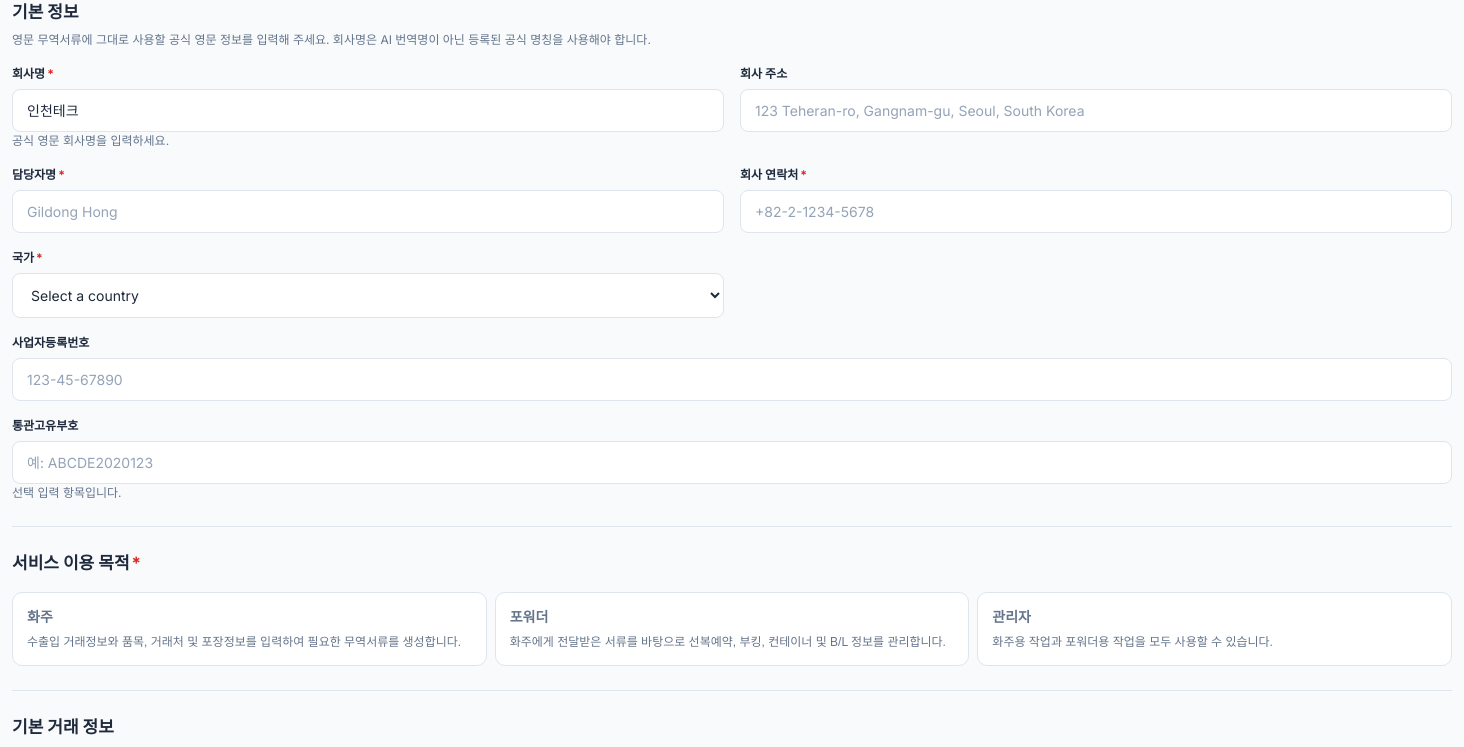
Test: ProfileForm 서비스 이용 목적 선택 › 온보딩에서는 담당자명, 회사 연락처, 국가가 없으면 저장하지 않는다
The image size is (1464, 747).
Click the radio button labelled "화주 수출입 거래정보와 품목, 거래처 및 포장정보를 입력하여 필요한 무역서류를 생성합니다.": [244, 642] box 12,592 -> 487,666
(page scrolled)
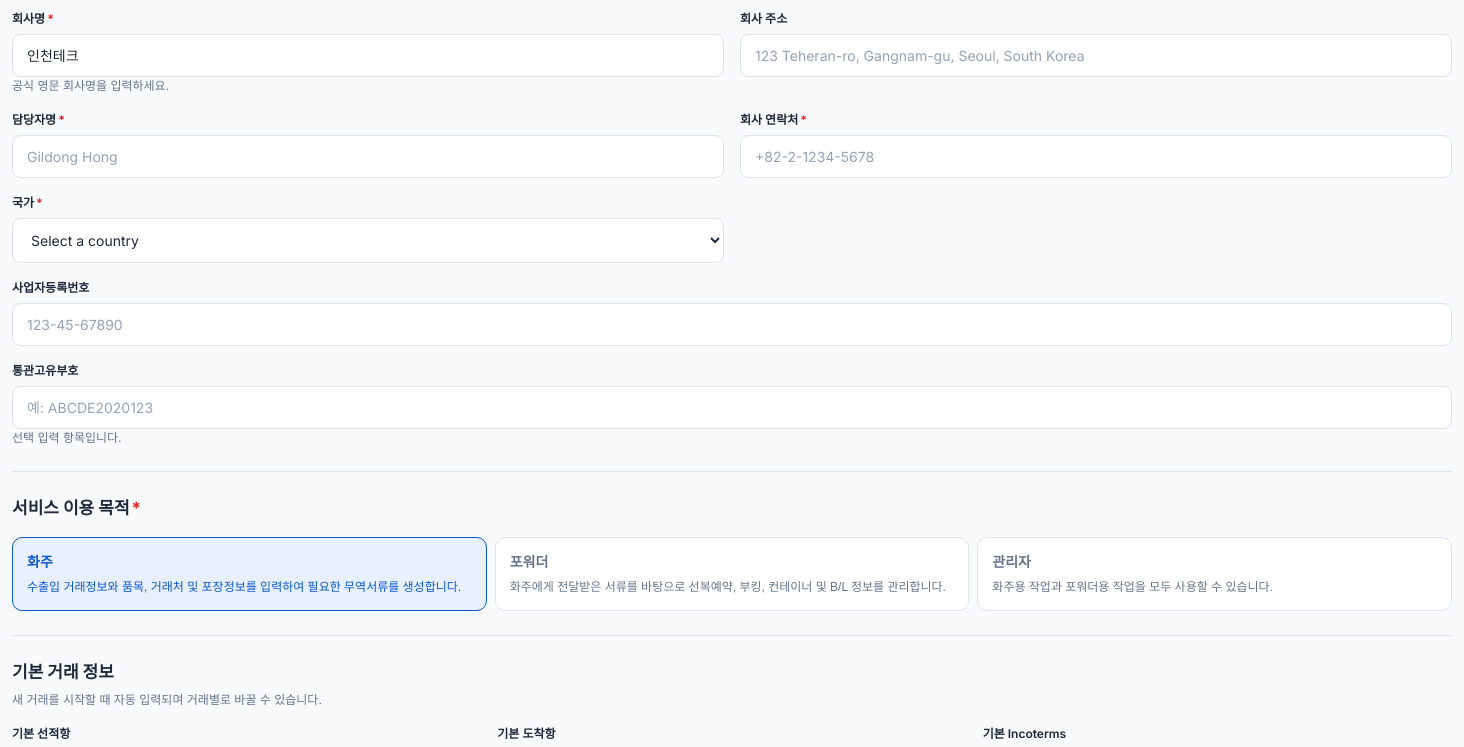
Submit the form
(page scrolled)
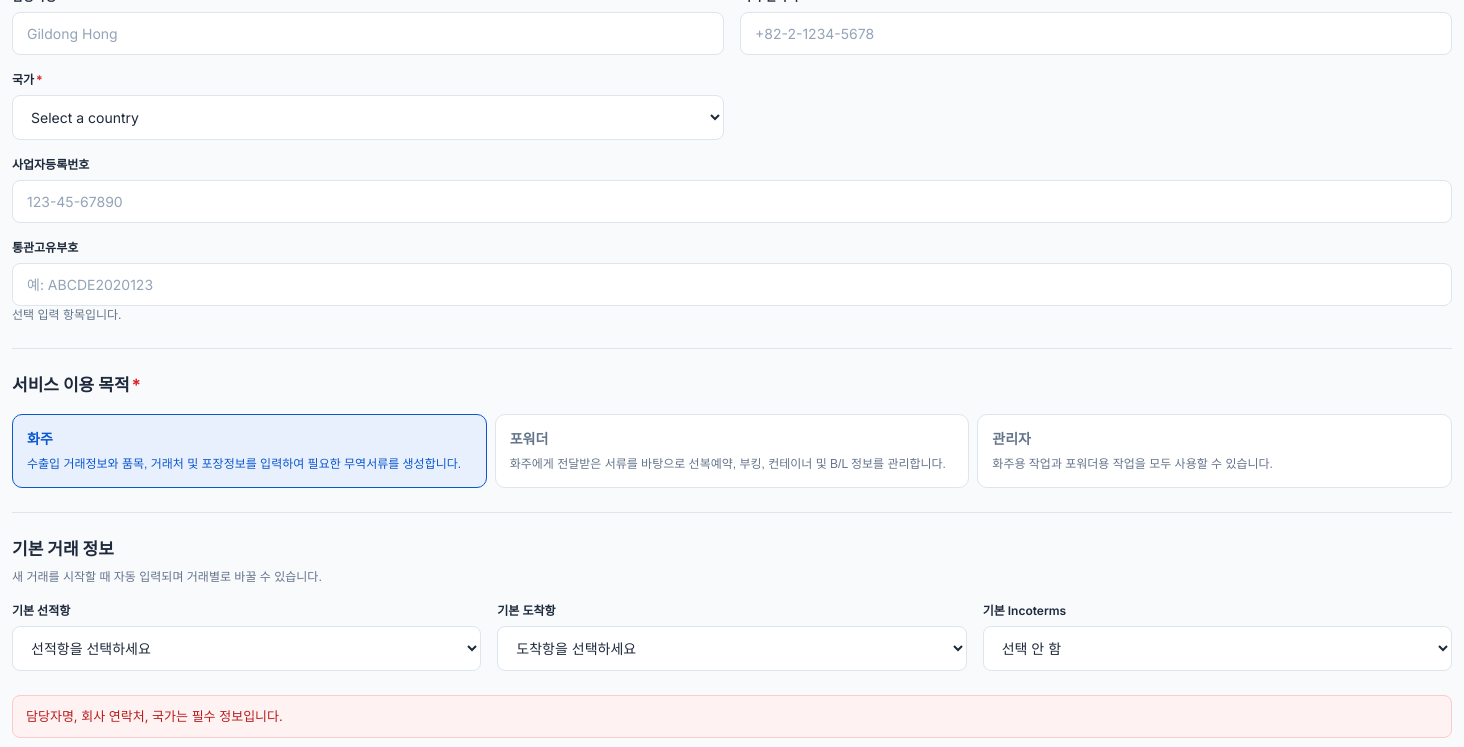
expect the message "담당자명, 회사 연락처, 국가는 필수 정보입니다." is shown: met, box 12,694 -> 1452,738
